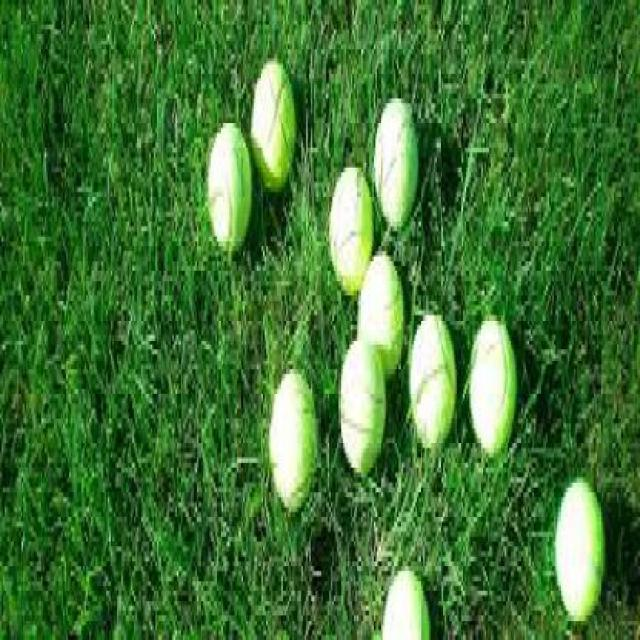tennis-ball: (466, 318, 520, 457), (557, 480, 608, 625), (268, 372, 320, 514), (206, 125, 262, 254), (355, 254, 412, 380), (372, 100, 420, 248), (409, 315, 460, 452), (338, 340, 388, 478), (248, 62, 298, 195), (328, 168, 375, 298), (382, 571, 435, 640)
